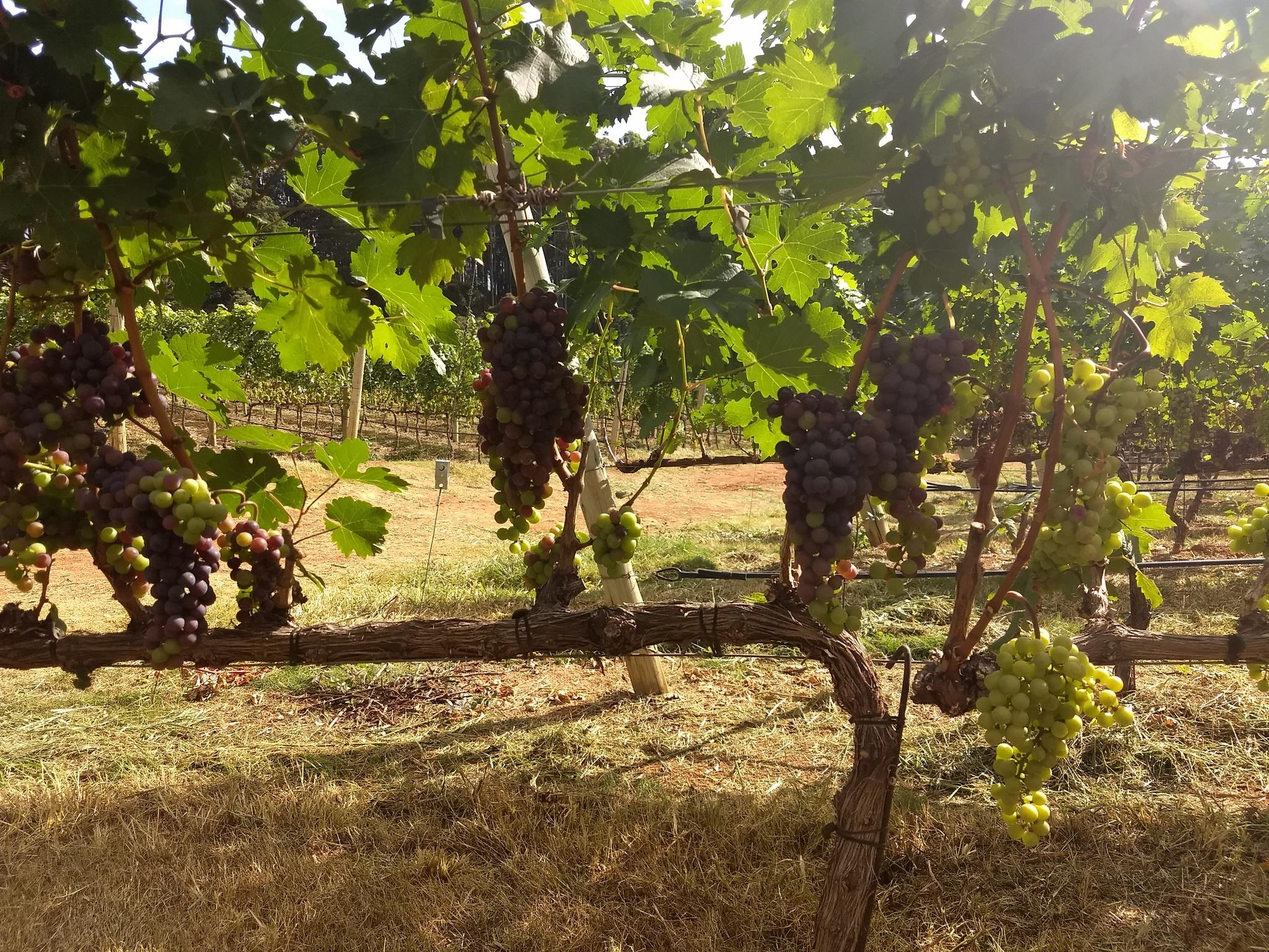Grape Unripe: (993, 627, 1135, 846), (1032, 359, 1159, 588), (0, 428, 95, 592), (924, 146, 990, 234), (589, 505, 643, 571), (517, 525, 558, 589), (1226, 488, 1265, 553)
